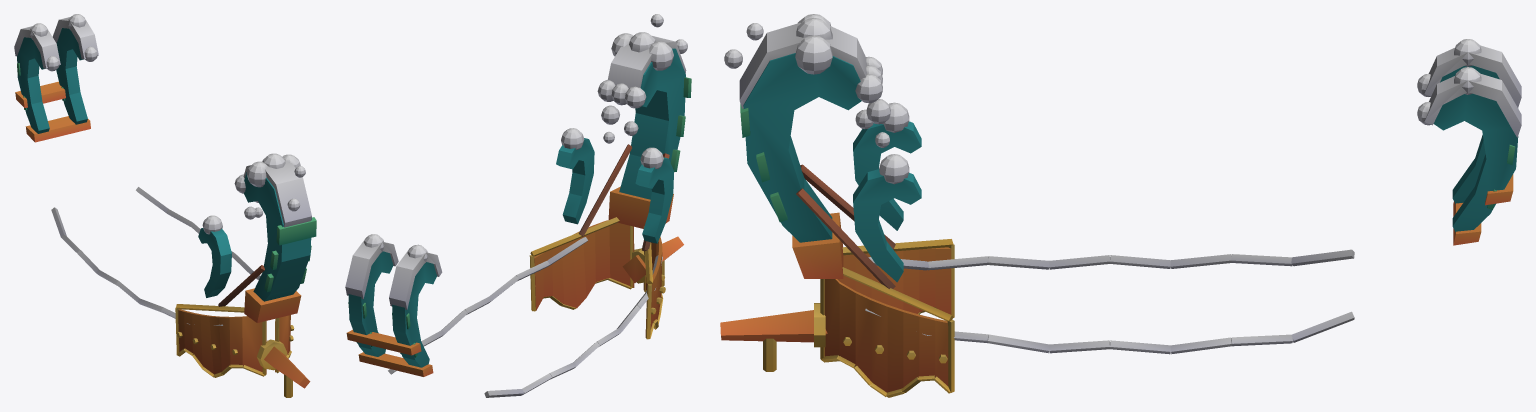
File: breaker-skill.glb
The picture shows the model from 3 angles, left to right: view 1: azimuth 30°, elevation 25°; view 2: azimuth 150°, elevation 25°; view 3: azimuth 270°, elevation 25°; orthographic projection. The views are drawn at different scales.
Visible parts, largest first — view 1: skill; view 2: skill; view 3: skill.
Part boxes in pixels (x1,y1,x2,y2): skill: (14,14,316,397); skill: (345,14,691,397); skill: (720,14,1521,397).
Size of the model in its own units: 2.16 by 3.97 by 8.18.
